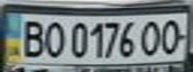0: (66, 19, 87, 58)
1: (87, 19, 106, 58)
6: (118, 18, 139, 58)
7: (103, 18, 121, 58)
B: (15, 17, 48, 59)
O: (157, 16, 187, 56), (39, 18, 69, 58), (139, 17, 166, 56)
